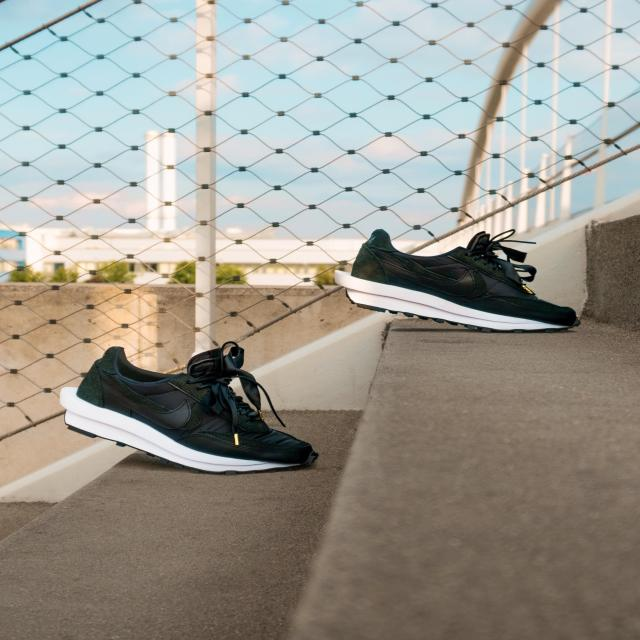shoe: (62, 338, 320, 476), (329, 226, 589, 337)
